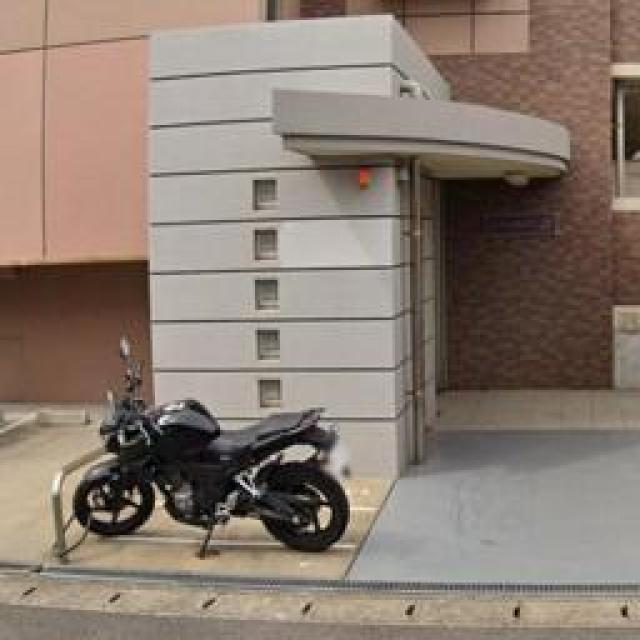motorbike: (70, 337, 358, 568)
